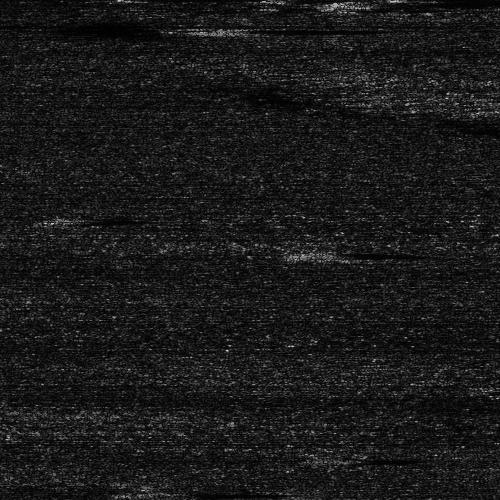object: (243, 0, 500, 12), (251, 0, 408, 10), (267, 248, 360, 257), (163, 24, 268, 31), (99, 490, 192, 497), (288, 454, 361, 461), (32, 215, 95, 222)
shadow: (400, 0, 500, 12), (329, 0, 417, 10), (216, 24, 340, 31), (314, 248, 400, 257), (325, 454, 412, 461), (146, 490, 225, 497), (64, 215, 140, 222)
